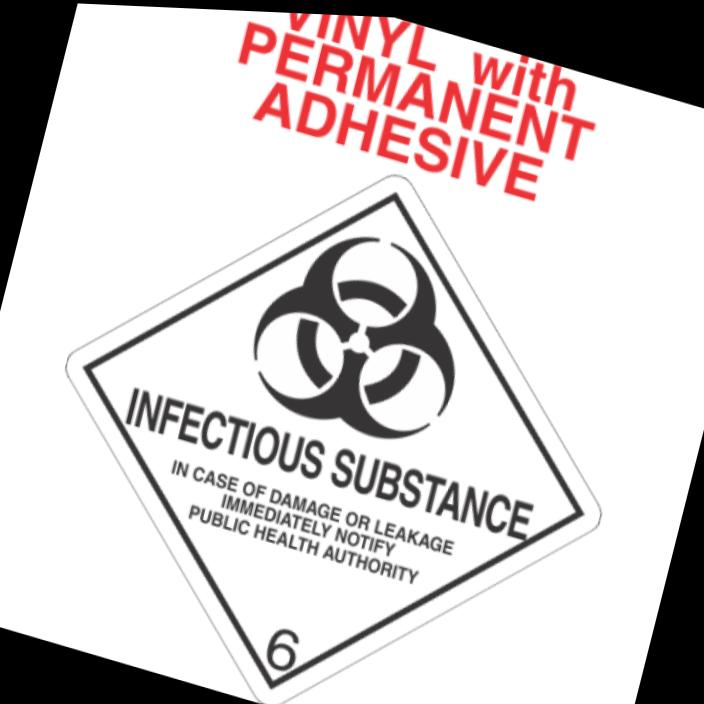doors: (68, 177, 597, 704)
